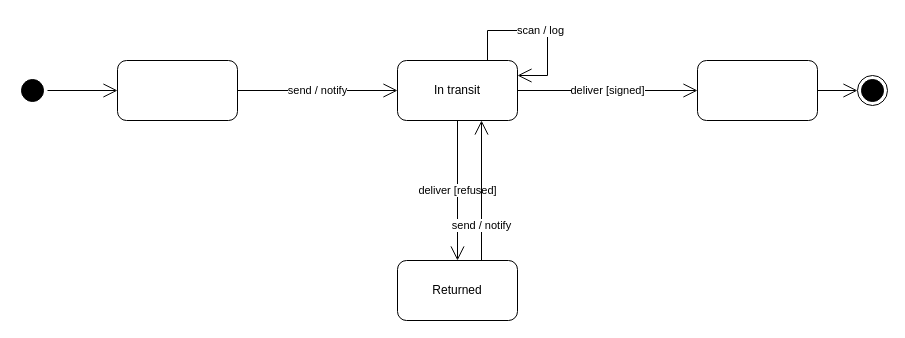
Some shapes in this 905 by 338 pixel diagram are drawn without their labels. Each missing label, with the centre of its shape:
Delivered: pixel 757 90
Pending: pixel 177 90
